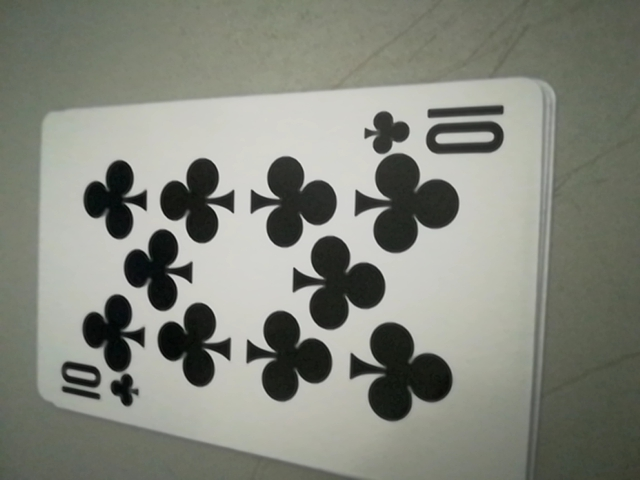mh 10: (364, 96, 513, 157), (53, 361, 144, 415)
